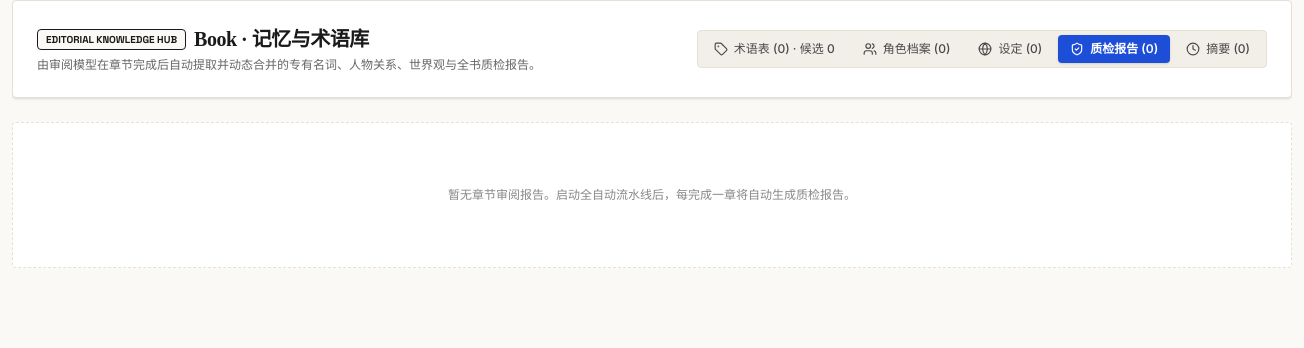
Knowledge loading states › renders category and status under their matching table headers
Click the button "术语表 (0) · 候选 0": (774, 49) left=702, top=35, right=847, bottom=63
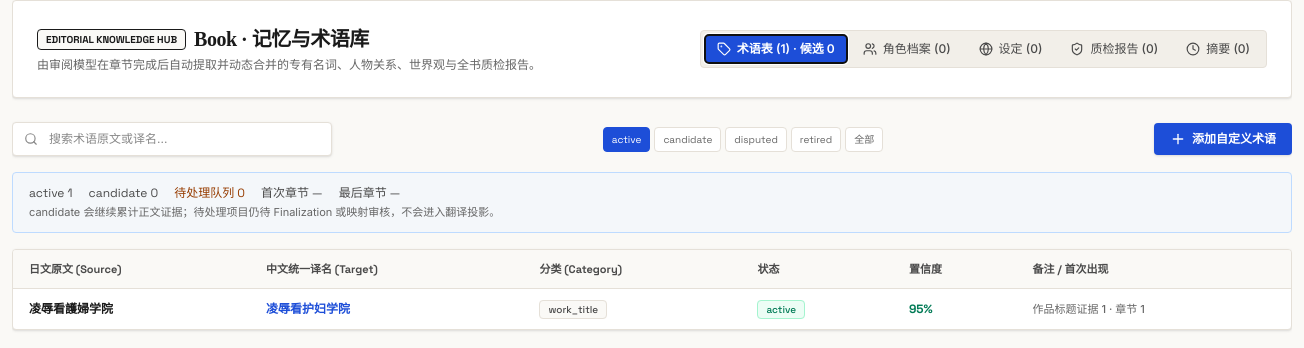
Result: the cell "work_title" is shown at left=524, top=289, right=742, bottom=329
Result: the cell "active" is shown at left=741, top=289, right=893, bottom=329
